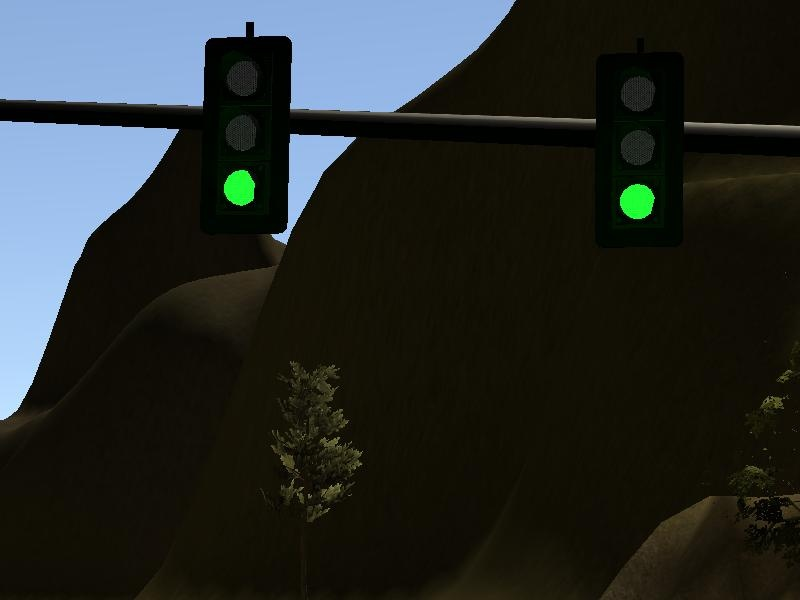GREEN: (589, 46, 685, 246), (201, 32, 293, 234)
